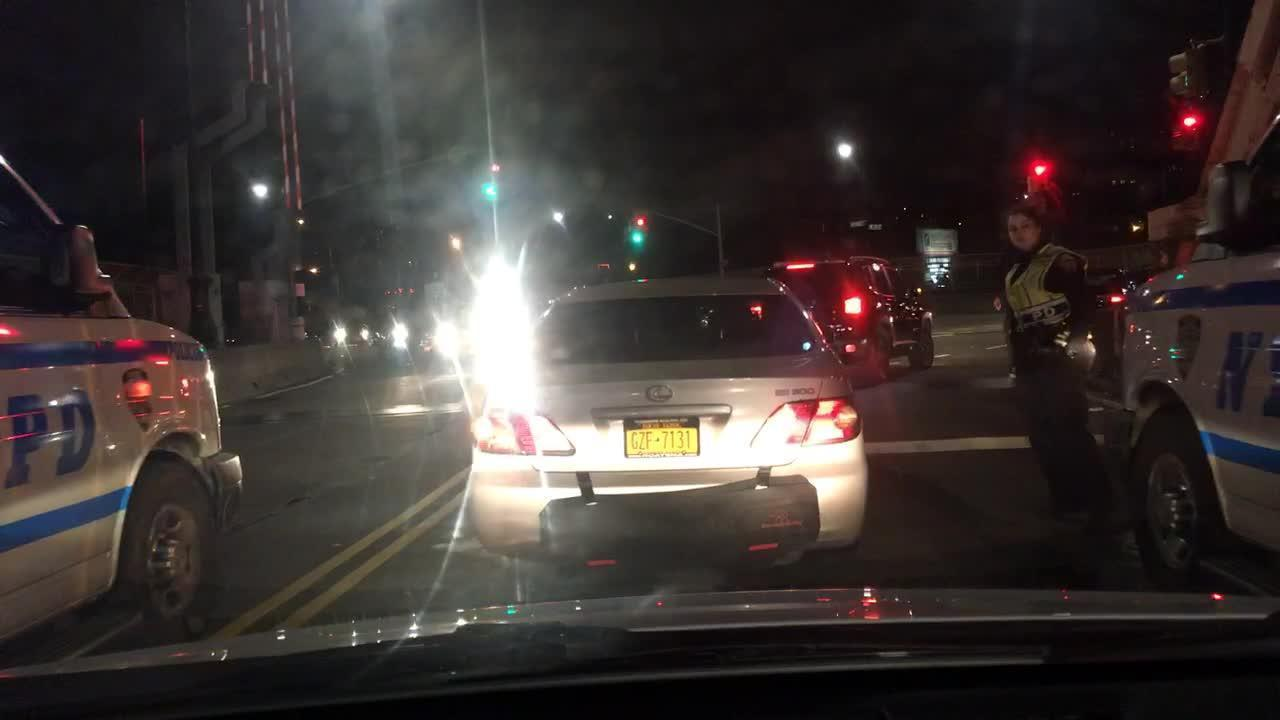lexus: (641, 379, 680, 410)
